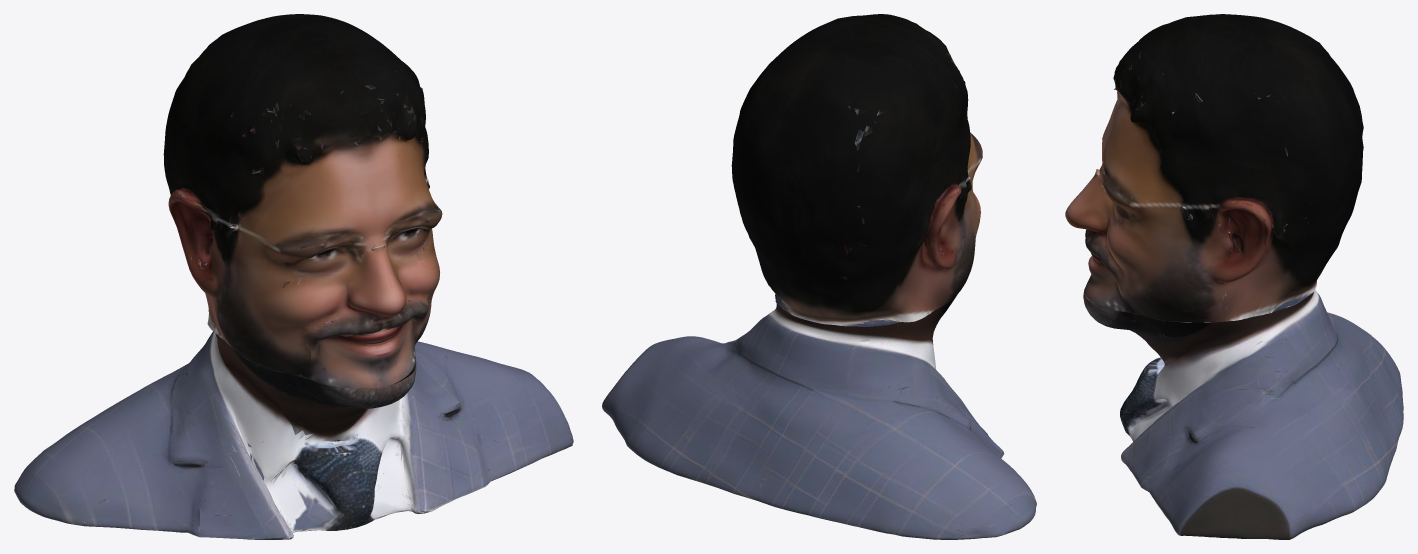
Rendered from Mr_Zawid.glb.
3 renders of one model, left to right at view 1: azimuth 30°, elevation 25°; view 2: azimuth 150°, elevation 25°; view 3: azimuth 270°, elevation 25°, orthographic. The views are drawn at different scales.
Visible parts, largest first — view 1: Mr.Zawid; view 2: Mr.Zawid; view 3: Mr.Zawid.
Boxes of the visible parts, bbox=[...] form: Mr.Zawid: bbox=[14, 14, 573, 539]; Mr.Zawid: bbox=[602, 14, 1036, 539]; Mr.Zawid: bbox=[1065, 14, 1403, 539].
Bounding box in the file's own units: 9.21 × 8.29 × 6.24.
Materials: 1 (1 with a texture image).
